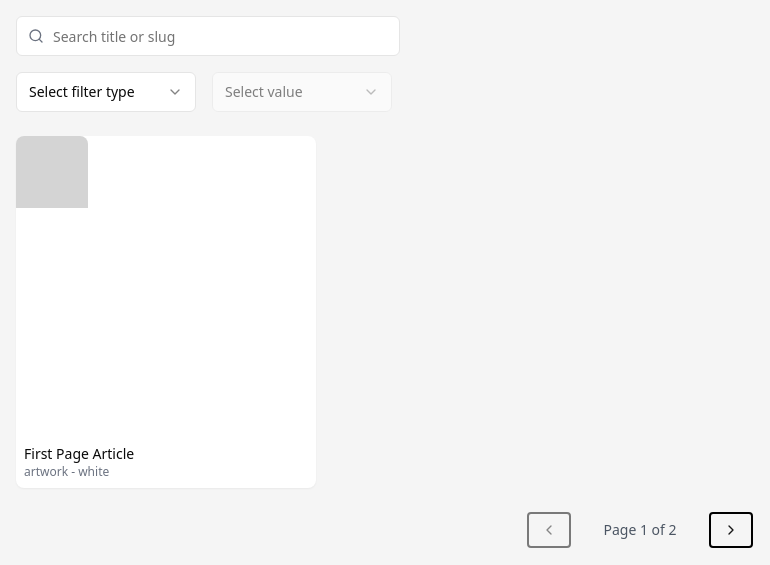
Test case: ReadArticleList pagination, filters, and search › fetches admin article pages using route metadata controls
Check: the heading "First Page Article" is shown, box [24,444,134,463]
Check: the text "Page 1 of 2" is shown, box [604,520,677,540]
Click the button named "Next article page". click: click(730, 530)
box: [708,512,752,548]
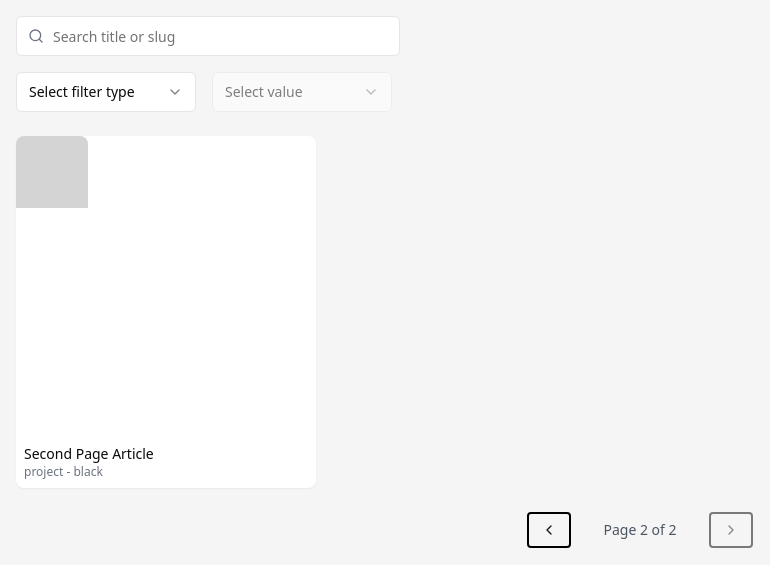
Check: the heading "Second Page Article" is shown, box [24,444,154,463]
Check: the text "Page 2 of 2" is shown, box [604,520,677,540]
Click the button named "Previous article page". click: click(550, 530)
box: [528,512,572,548]
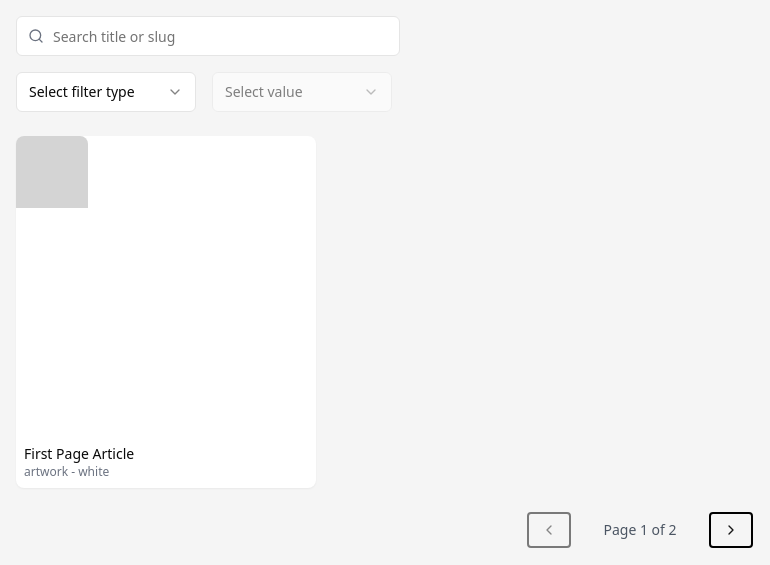
Check: the heading "First Page Article" is shown, box [24,444,134,463]
